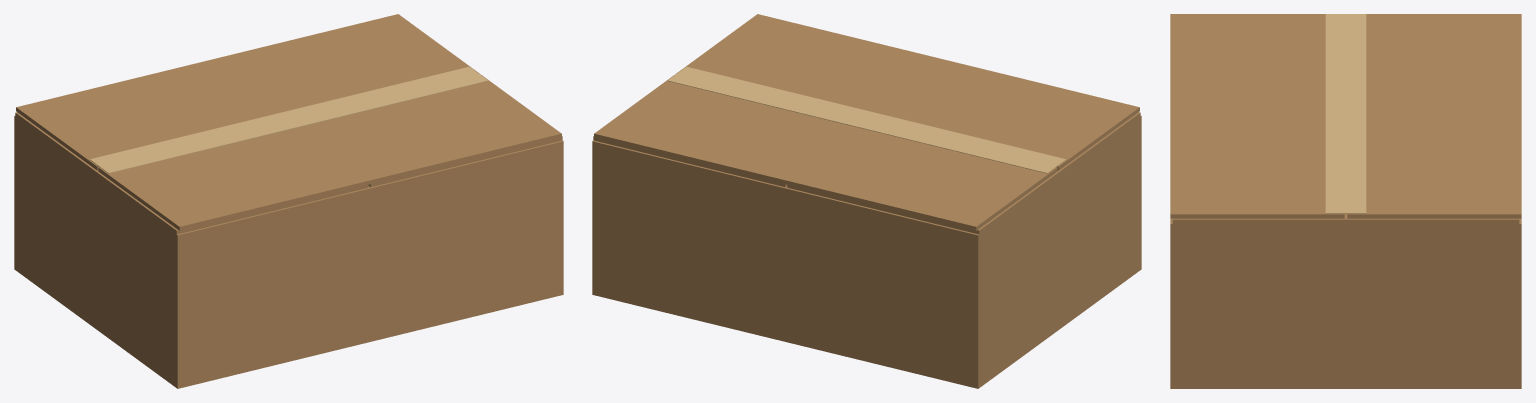
File: corrugated-parcel-box.glb
3 renders of one model, left to right at view 1: azimuth 30°, elevation 25°; view 2: azimuth 150°, elevation 25°; view 3: azimuth 270°, elevation 25°, orthographic. The views are drawn at different scales.
Visible parts, largest first — view 1: Geom.002, Geom.007, Geom.005, Geom.003, Geom.008, Geom.006, Geom.001, Geom.009, Geom.010; view 2: Geom, Geom.005, Geom.007, Geom.003, Geom.006, Geom.008, Geom.001, Geom.009, Geom.010; view 3: Geom.004, Geom.005, Geom.007, Geom.006, Geom.008, Geom.010, Geom.001, Geom, Geom.002.
Part boxes in pixels (x1,y1,x2,y2): Geom.002: [175, 140, 563, 384]; Geom.007: [98, 74, 561, 230]; Geom.005: [16, 14, 479, 170]; Geom.003: [16, 117, 175, 382]; Geom.008: [99, 73, 488, 173]; Geom.006: [89, 66, 478, 166]; Geom.001: [14, 186, 563, 388]; Geom.009: [15, 112, 368, 234]; Geom.010: [368, 136, 562, 187]; Geom: [592, 140, 980, 384]; Geom.005: [594, 74, 1057, 230]; Geom.007: [676, 14, 1139, 170]; Geom.003: [980, 117, 1139, 382]; Geom.006: [667, 73, 1056, 173]; Geom.008: [677, 66, 1066, 166]; Geom.001: [592, 186, 1141, 388]; Geom.009: [787, 112, 1140, 234]; Geom.010: [593, 136, 787, 187]; Geom.004: [1175, 224, 1516, 384]; Geom.005: [1347, 14, 1521, 218]; Geom.007: [1170, 14, 1344, 218]; Geom.006: [1346, 14, 1366, 213]; Geom.008: [1325, 14, 1345, 213]; Geom.010: [1172, 213, 1519, 223]; Geom.001: [1170, 384, 1521, 388]; Geom: [1516, 218, 1521, 384]; Geom.002: [1170, 218, 1175, 384].
Size of the model in its own units: 0.3 by 0.1204 by 0.22.
